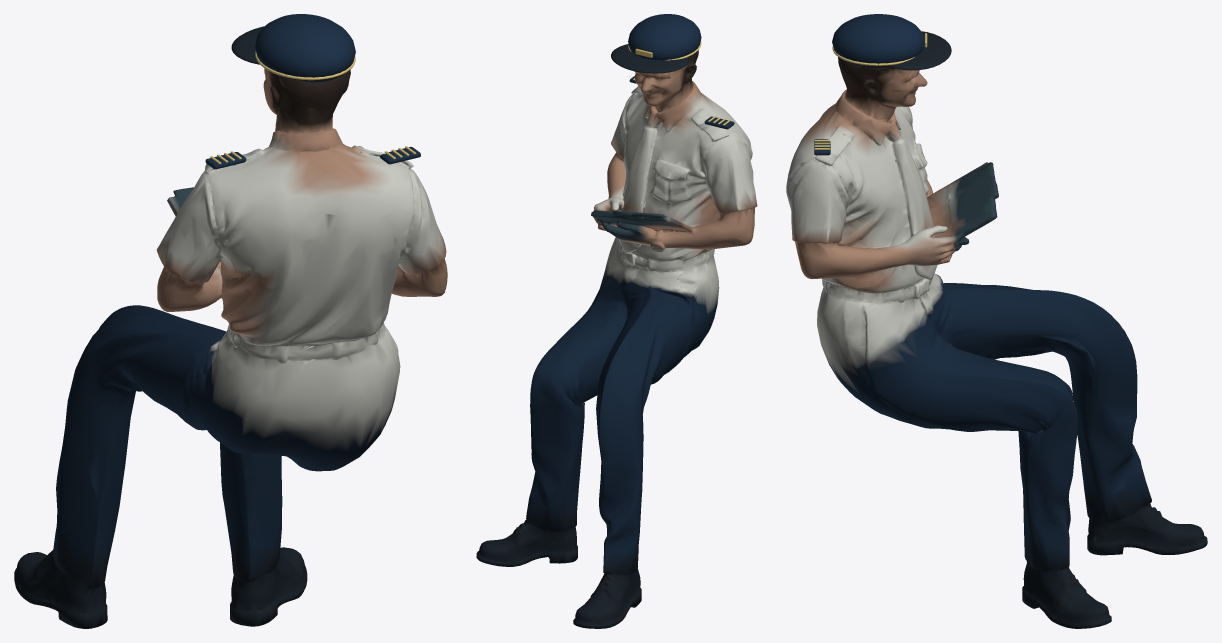
The model's file is pilot-seated.glb.
3 renders of one model, left to right at view 1: azimuth 30°, elevation 25°; view 2: azimuth 150°, elevation 25°; view 3: azimuth 270°, elevation 25°, orthographic. The views are drawn at different scales.
Parts seen in each view (by area): view 1: Pilot seated uniform, Pilot cap crown, Pilot cap peak; view 2: Pilot seated uniform, Pilot cap crown, Pilot cap peak; view 3: Pilot seated uniform, Pilot cap crown, Pilot cap peak.
Part boxes in pixels (x1,y1,x2,y2): Pilot seated uniform: (14, 68, 447, 628); Pilot cap crown: (255, 14, 355, 82); Pilot cap peak: (231, 26, 264, 64); Pilot seated uniform: (476, 50, 757, 628); Pilot cap crown: (628, 14, 701, 60); Pilot cap peak: (611, 44, 688, 73); Pilot seated uniform: (786, 57, 1207, 628); Pilot cap crown: (832, 14, 924, 67); Pilot cap peak: (888, 31, 951, 70).
Bounding box in the file's own units: 0.5749 × 1.44 × 0.9735.
